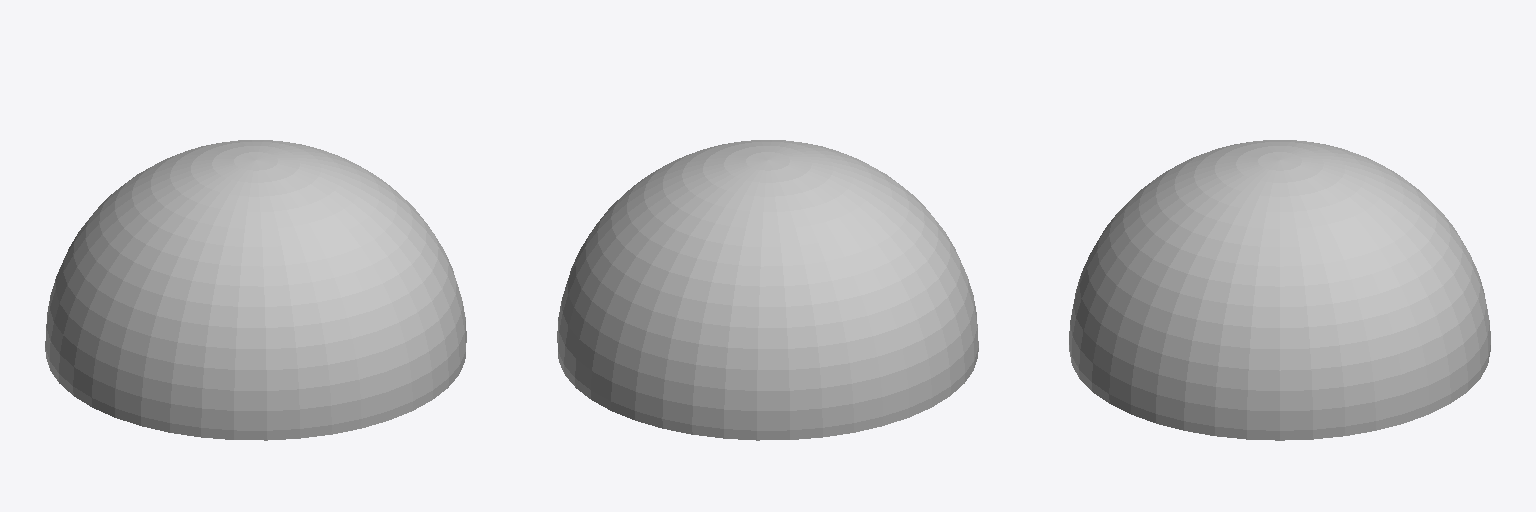
The model's file is halfsphere_15cm.obj.
The picture shows the model from 3 angles: view 1: azimuth 30°, elevation 25°; view 2: azimuth 150°, elevation 25°; view 3: azimuth 270°, elevation 25°; orthographic projection.
Visible parts, largest first — view 1: Sphere_Sphere.001; view 2: Sphere_Sphere.001; view 3: Sphere_Sphere.001.
Part boxes in pixels (x1,y1,x2,y2): Sphere_Sphere.001: (45, 140, 466, 440); Sphere_Sphere.001: (557, 140, 978, 440); Sphere_Sphere.001: (1069, 140, 1490, 440).
Size of the model in its own units: 0.3 by 0.15 by 0.3.